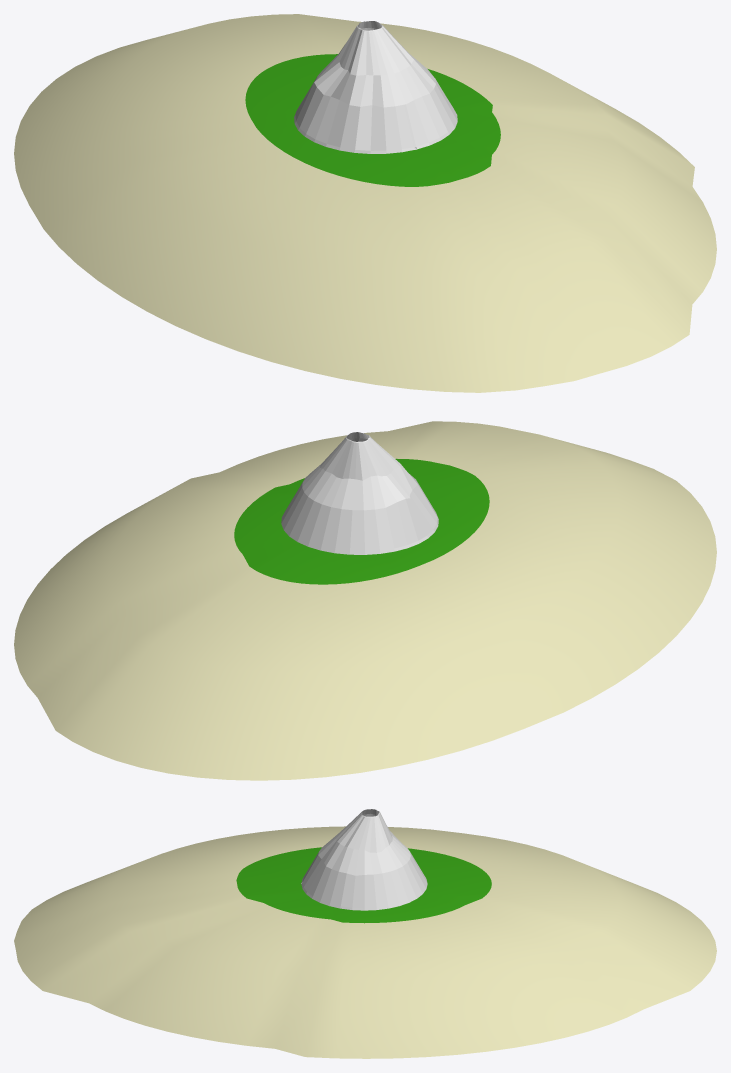
The model's file is firelake.gltf.
3 views of the same model, one above another, from view 1: azimuth 30°, elevation 25°; view 2: azimuth 150°, elevation 25°; view 3: azimuth 270°, elevation 25° (orthographic). The views are drawn at different scales.
Parts seen in each view (by area): view 1: Island, Mountain; view 2: Island, Mountain; view 3: Island, Mountain.
Part boxes in pixels (x1=…): Island: x1=14, y1=14, x2=716, y2=392; Mountain: x1=294, y1=21, x2=457, y2=153; Island: x1=14, y1=421, x2=716, y2=780; Mountain: x1=281, y1=432, x2=438, y2=554; Island: x1=14, y1=826, x2=716, y2=1058; Mountain: x1=301, y1=809, x2=427, y2=910.
Bounding box in the file's own units: 200 × 60.26 × 278.
